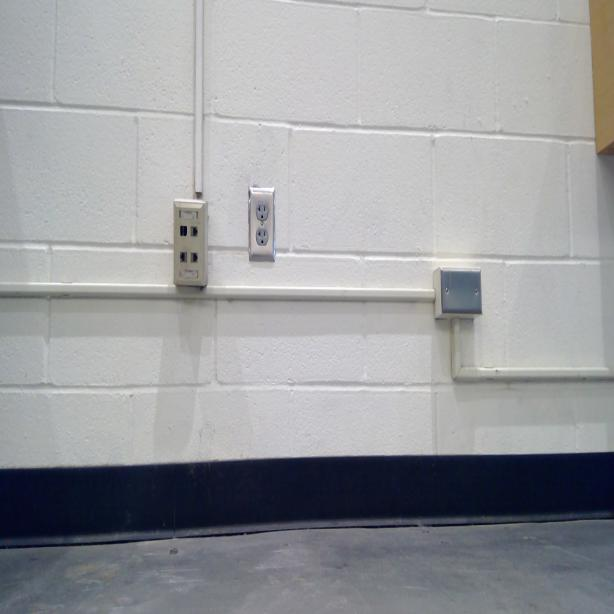typeb: (256, 227, 270, 247), (256, 202, 268, 220)
